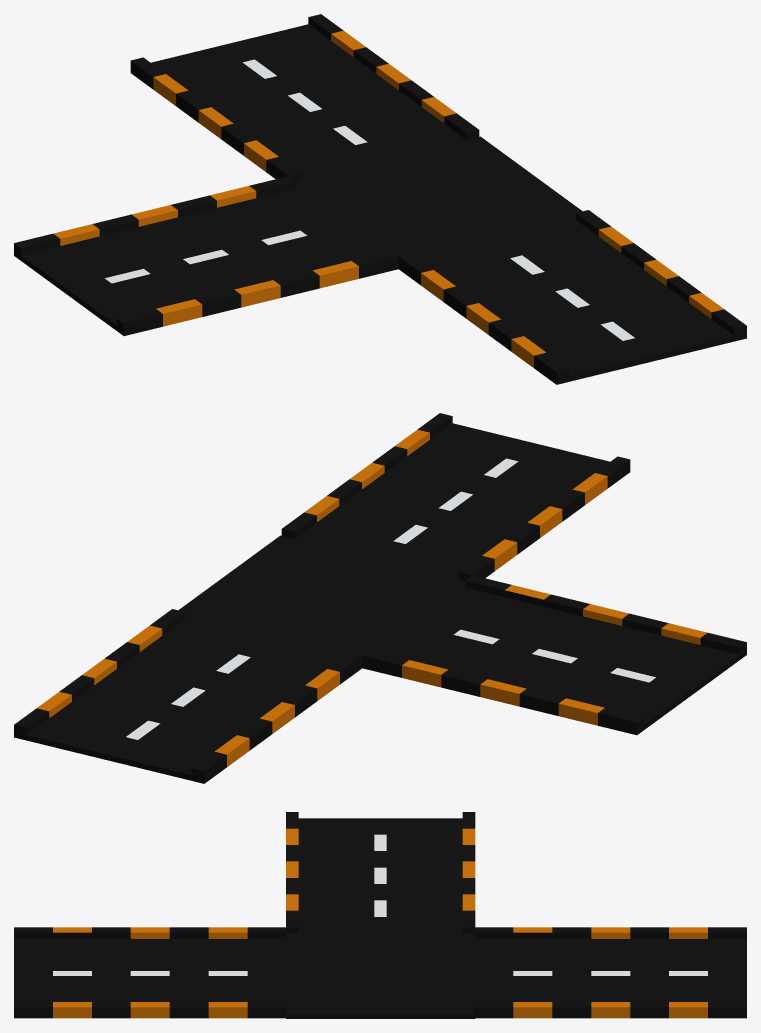
File: Road_TJunction_01.fbx
3 views of the same model, one above another, from view 1: azimuth 30°, elevation 25°; view 2: azimuth 150°, elevation 25°; view 3: azimuth 270°, elevation 25° (orthographic). The views are drawn at different scales.
Visible parts, largest first — view 1: Road_TJunction_01; view 2: Road_TJunction_01; view 3: Road_TJunction_01.
Part boxes in pixels (box(x1,y1,x2,y2)): Road_TJunction_01: box(14, 14, 746, 384); Road_TJunction_01: box(14, 413, 746, 783); Road_TJunction_01: box(14, 812, 746, 1018).
Size of the model in its own units: 11.87 by 0.3084 by 18.78.
